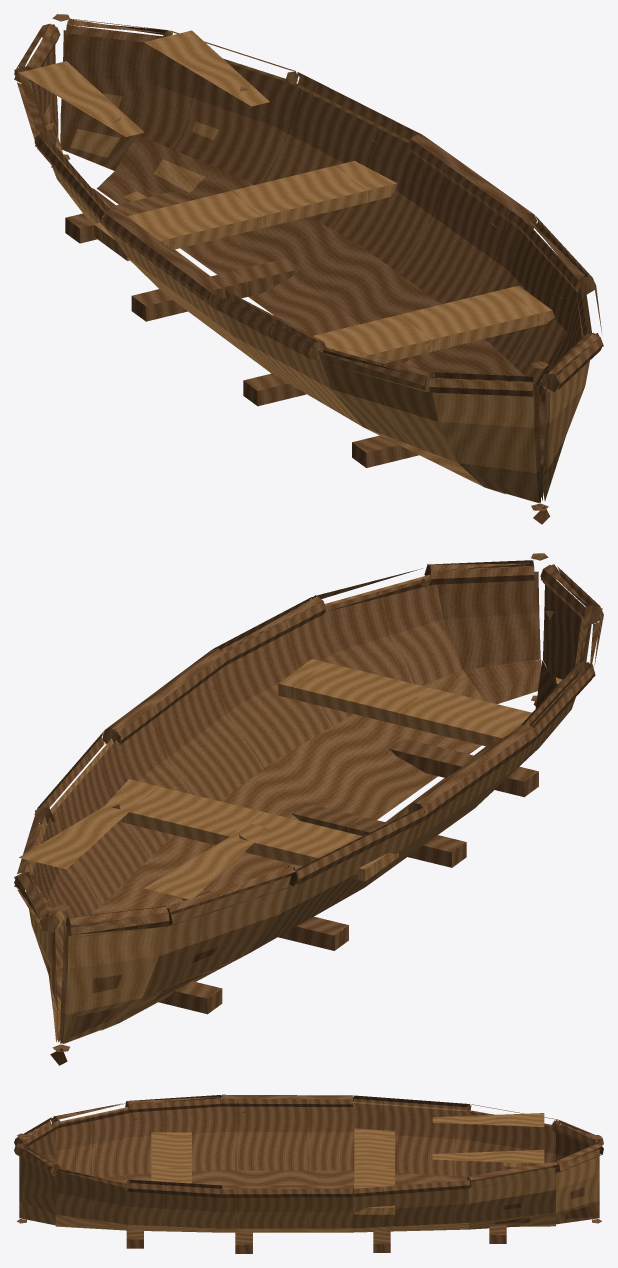
3 renders of one model, top to bottom at view 1: azimuth 30°, elevation 25°; view 2: azimuth 150°, elevation 25°; view 3: azimuth 270°, elevation 25°, orthographic. The views are drawn at different scales.
Visible parts, largest first — view 1: rowboat; view 2: rowboat; view 3: rowboat.
Part boxes in pixels (x1,y1,x2,y2): rowboat: [14, 14, 603, 524]; rowboat: [14, 553, 603, 1065]; rowboat: [14, 1094, 603, 1253].
Size of the model in its own units: 1.57 by 0.7249 by 4.07.
2 materials, 2 textured.
